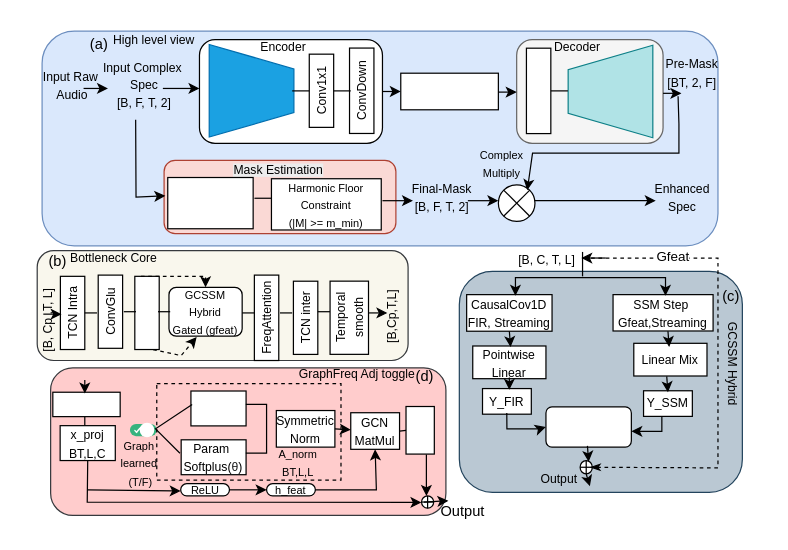
Some shapes in this 788 by 550 pixel diagram are drawn without their labels. The centre of each missing label's shape, as x and y in pixels:
"Bottleneck Core [B, Cp, T, L]" goes at point (449, 91).
"Conv 1,2,3 (Dynamic Subband)" goes at point (251, 90).
"ConvUp" goes at point (538, 90).
"Deconv 1,2,3 (with skip connection )" goes at point (610, 91).
"GraphFreq" goes at point (146, 312).
"hfeat [B,C,T,L]" goes at point (419, 429).
"Level Norm per sample/per frame" goes at point (210, 202).
"Linear Wg" goes at point (86, 404).
"Param A Banded" goes at point (218, 408).
"SoftMax Alpha/Beta" goes at point (588, 426).
